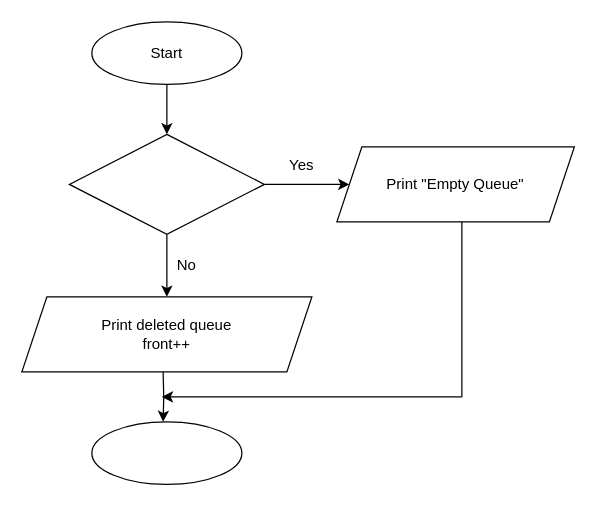
The diagram is 596 pixels wide and 506 high, and some of its shapes have lost their labels. The shapes that lost their labels are listed below. From the top down, each one's box as (x1, y1, x2, y2) in pixels, then its label:
(68, 133, 264, 234): If front == -1
(91, 421, 242, 484): return
